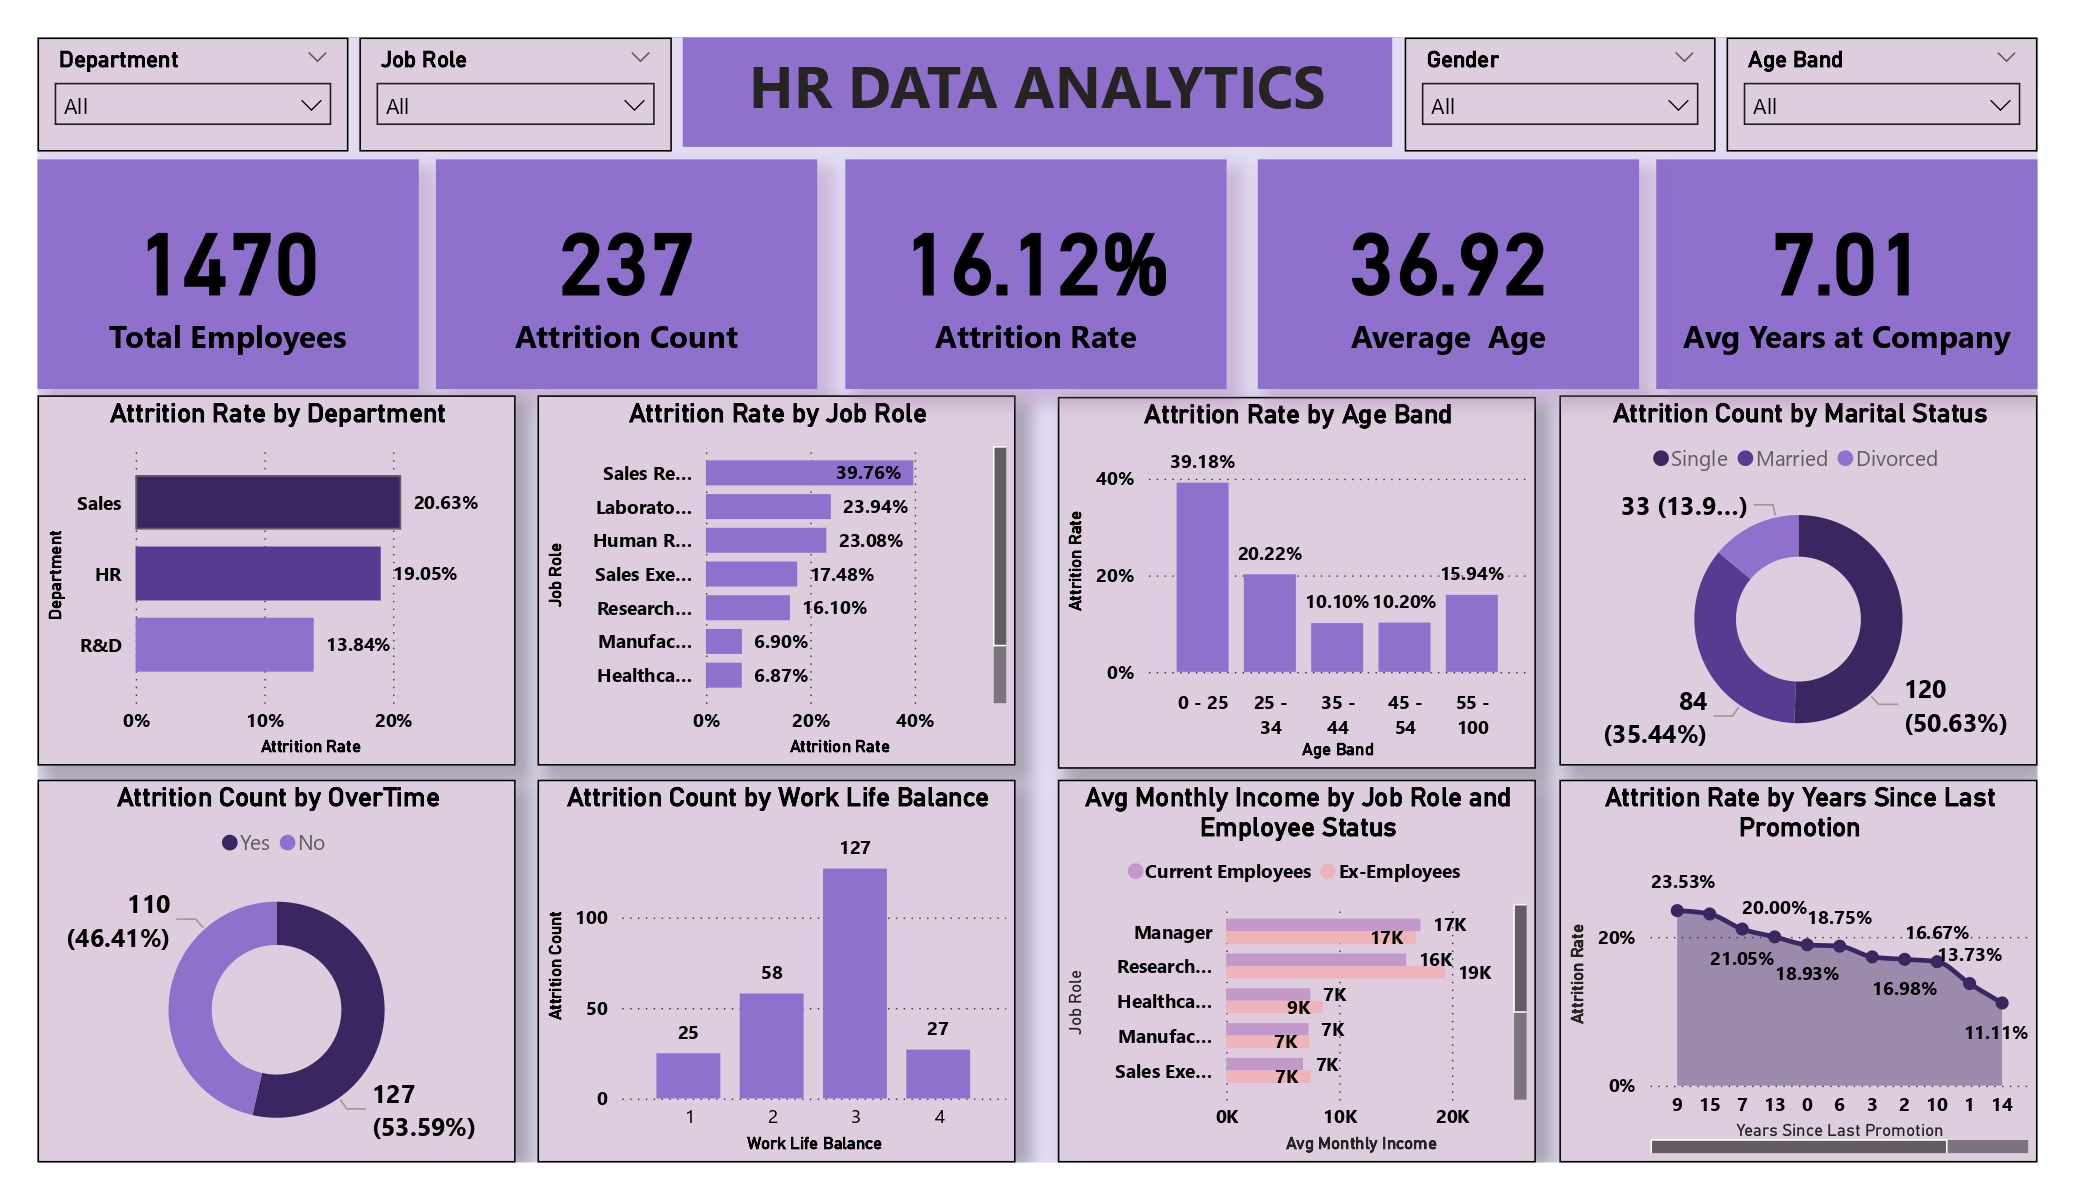

The dashboard page shown, as its layout file describes it:
{"tool":"powerbi","page":{"name":"Dashboard","canvas":[1280,720],"ordinal":0},"visuals":[{"type":"slicer","fields":{"Values":["HR data.Department"]},"box":[0,0,199,73.4],"z":0},{"type":"slicer","fields":{"Values":["HR data.Job Role"]},"box":[206.5,0,199,73.4],"z":1000},{"type":"slicer","fields":{"Values":["HR data.CF_age band"]},"box":[1081,0,199,73.4],"z":2000},{"type":"slicer","fields":{"Values":["HR data.Gender"]},"box":[874.5,0,199,73.4],"z":3000},{"type":"card","fields":{"Values":["_Measures.Total Employees"]},"box":[0,78.4,243.8,146.8],"z":4000},{"type":"card","fields":{"Values":["_Measures.Attrition Count"]},"box":[255,78.4,243.8,146.8],"z":5000},{"type":"barChart","fields":{"Category":["HR data.Department"],"Y":["_Measures.Attrition Rate"]},"box":[0,228.9,306,237.6],"z":6000},{"type":"barChart","fields":{"Category":["HR data.Job Role"],"Y":["_Measures.Attrition Rate"]},"box":[319.7,228.9,306,237.6],"z":7000},{"type":"columnChart","fields":{"Category":["HR data.CF_age band"],"Y":["_Measures.Attrition Rate"]},"box":[653.1,230.1,306,237.6],"z":8000},{"type":"donutChart","fields":{"Category":["HR data.Over Time"],"Y":["_Measures.Attrition Count"]},"box":[0,475.2,306,245.1],"z":9000},{"type":"donutChart","fields":{"Y":["_Measures.Attrition Count"],"Category":["HR data.Marital Status"]},"box":[974,228.9,306,237.6],"z":10000},{"type":"columnChart","fields":{"Category":["HR data.Work Life Balance"],"Y":["_Measures.Attrition Count"]},"box":[319.7,475.2,306,245.1],"z":11000},{"type":"clusteredBarChart","fields":{"Category":["HR data.Job Role"],"Y":["_Measures.Avg Monthly Income"],"Series":["HR data.CF_attrition label"]},"box":[653.1,475.2,306,245.1],"z":12000},{"type":"card","fields":{"Values":["_Measures.Attrition Rate"]},"box":[517.5,78.4,243.8,146.8],"z":13000},{"type":"card","fields":{"Values":["_Measures.Avg Years at Company"]},"box":[1036.2,78.4,243.8,146.8],"z":14000},{"type":"lineChart","fields":{"Category":["HR data.Years Since Last Promotion"],"Y":["_Measures.Attrition Rate"]},"box":[974,475.2,306,245.1],"z":15000},{"type":"textbox","box":[413,0,454,69.7],"z":16000},{"type":"card","fields":{"Values":["Avg(HR data.Age)"]},"box":[781.2,78.4,243.8,146.8],"z":17000}]}

Visuals, with their boxes in screenshot pixels (x1, y1, x2, y2):
slicer - HR data.Department: box=[38, 38, 348, 152]
slicer - HR data.Job Role: box=[360, 38, 671, 152]
slicer - HR data.CF_age band: box=[1727, 38, 2038, 152]
slicer - HR data.Gender: box=[1404, 38, 1715, 152]
card - _Measures.Total Employees: box=[38, 160, 418, 389]
card - _Measures.Attrition Count: box=[436, 160, 817, 389]
barChart - HR data.Department x _Measures.Attrition Rate: box=[38, 395, 516, 766]
barChart - HR data.Job Role x _Measures.Attrition Rate: box=[537, 395, 1015, 766]
columnChart - HR data.CF_age band x _Measures.Attrition Rate: box=[1058, 397, 1536, 768]
donutChart - HR data.Over Time x _Measures.Attrition Count: box=[38, 780, 516, 1162]
donutChart - _Measures.Attrition Count x HR data.Marital Status: box=[1559, 395, 2038, 766]
columnChart - HR data.Work Life Balance x _Measures.Attrition Count: box=[537, 780, 1015, 1162]
clusteredBarChart - HR data.Job Role x _Measures.Avg Monthly Income: box=[1058, 780, 1536, 1162]
card - _Measures.Attrition Rate: box=[846, 160, 1227, 389]
card - _Measures.Avg Years at Company: box=[1657, 160, 2038, 389]
lineChart - HR data.Years Since Last Promotion x _Measures.Attrition Rate: box=[1559, 780, 2038, 1162]
textbox: box=[683, 38, 1392, 146]
card - Avg(HR data.Age): box=[1258, 160, 1639, 389]
